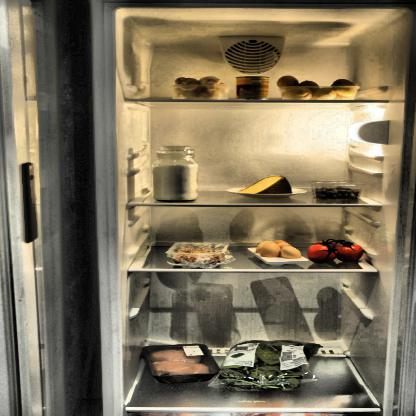blueberries: (312, 185, 364, 200)
cheese: (239, 176, 295, 196)
chicken: (148, 346, 212, 379)
corn: (232, 74, 272, 100)
eggs: (252, 238, 304, 260)
mushrooms: (170, 75, 228, 99)
potato: (276, 76, 361, 100)
shrimp: (171, 241, 226, 267)
spinach: (210, 340, 318, 390)
tomato: (307, 238, 370, 268)
